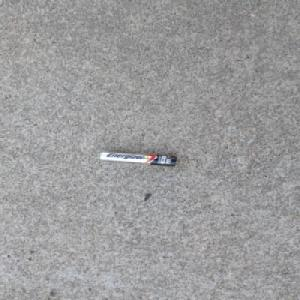Battery: (99, 151, 179, 167)
